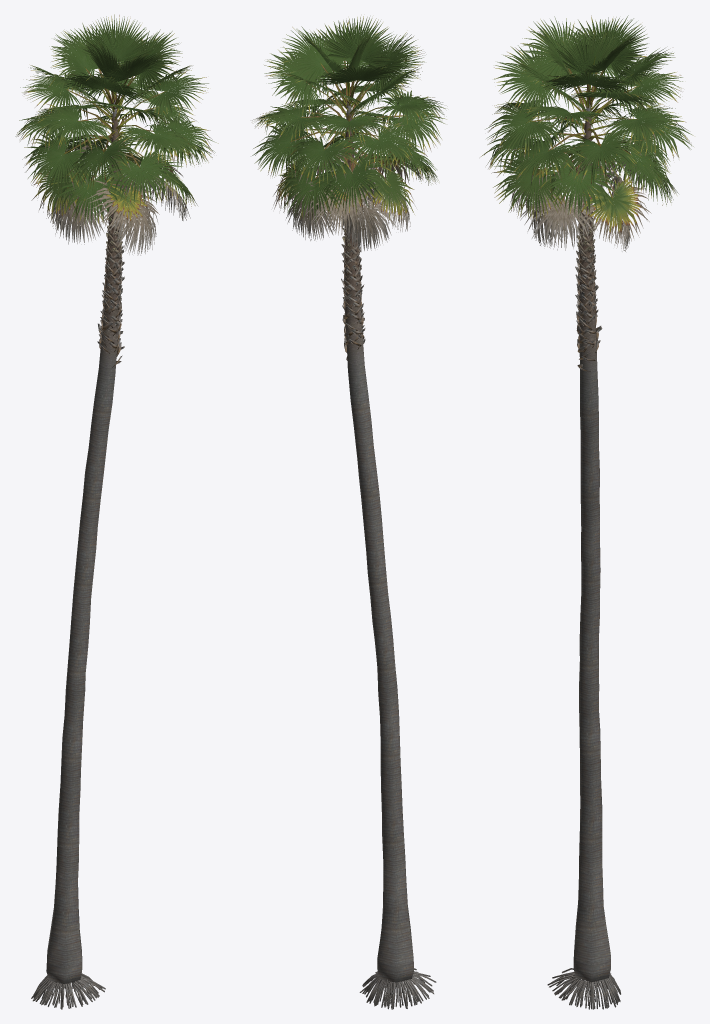
The model's file is fanpalm_rob1.glb.
3 renders of one model, left to right at view 1: azimuth 30°, elevation 25°; view 2: azimuth 150°, elevation 25°; view 3: azimuth 270°, elevation 25°, orthographic. The views are drawn at different scales.
Visible parts, largest first — view 1: Washingtonia_robusta_HD_V2_w; view 2: Washingtonia_robusta_HD_V2_w; view 3: Washingtonia_robusta_HD_V2_w.
Part boxes in pixels (<box>): Washingtonia_robusta_HD_V2_w: <box>15,14,218,1009</box>; Washingtonia_robusta_HD_V2_w: <box>252,16,446,1009</box>; Washingtonia_robusta_HD_V2_w: <box>481,15,693,1009</box>.
Bounding box in the file's own units: 3.02 × 16 × 3.17.
14 materials, 14 textured.
